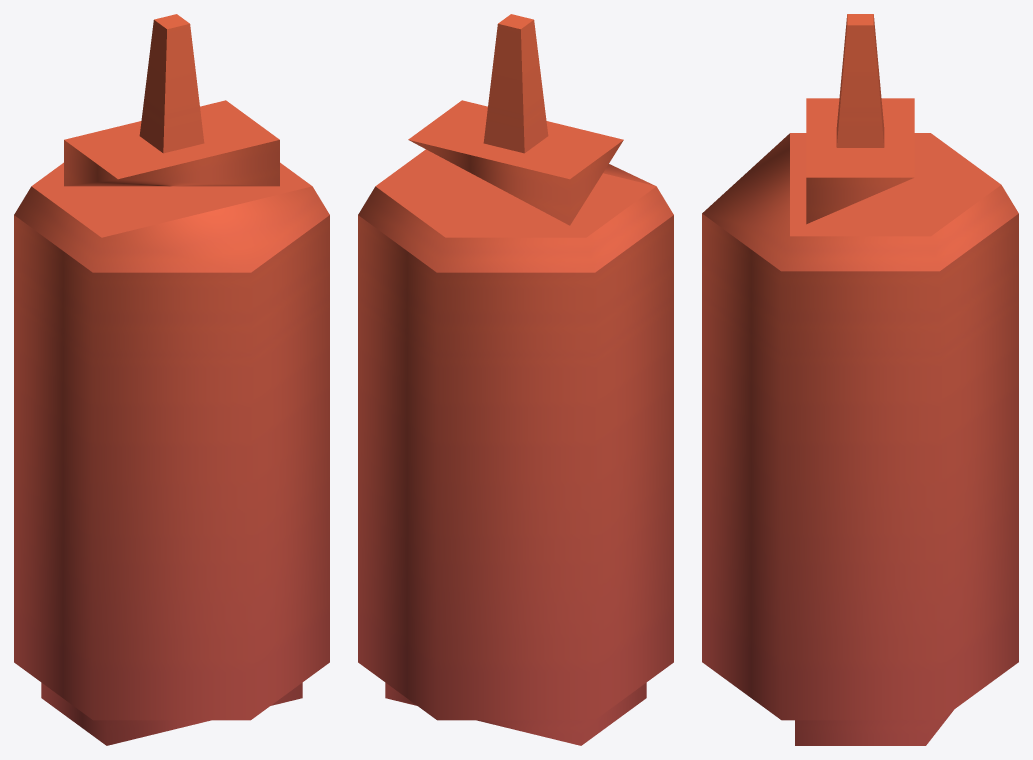
The model's file is cc0-bottle-ketchup-lod1.glb.
The picture shows the model from 3 angles, left to right: view 1: azimuth 30°, elevation 25°; view 2: azimuth 150°, elevation 25°; view 3: azimuth 270°, elevation 25°; orthographic projection.
Parts seen in each view (by area): view 1: part_0; view 2: part_0; view 3: part_0.
Boxes of the visible parts, x1,y1,x2,y2 form: part_0: (14, 14, 329, 745); part_0: (358, 14, 673, 745); part_0: (702, 14, 1018, 745).
Bounding box in the file's own units: 0.1441 × 0.3931 × 0.1664.
1 material, 1 textured.
